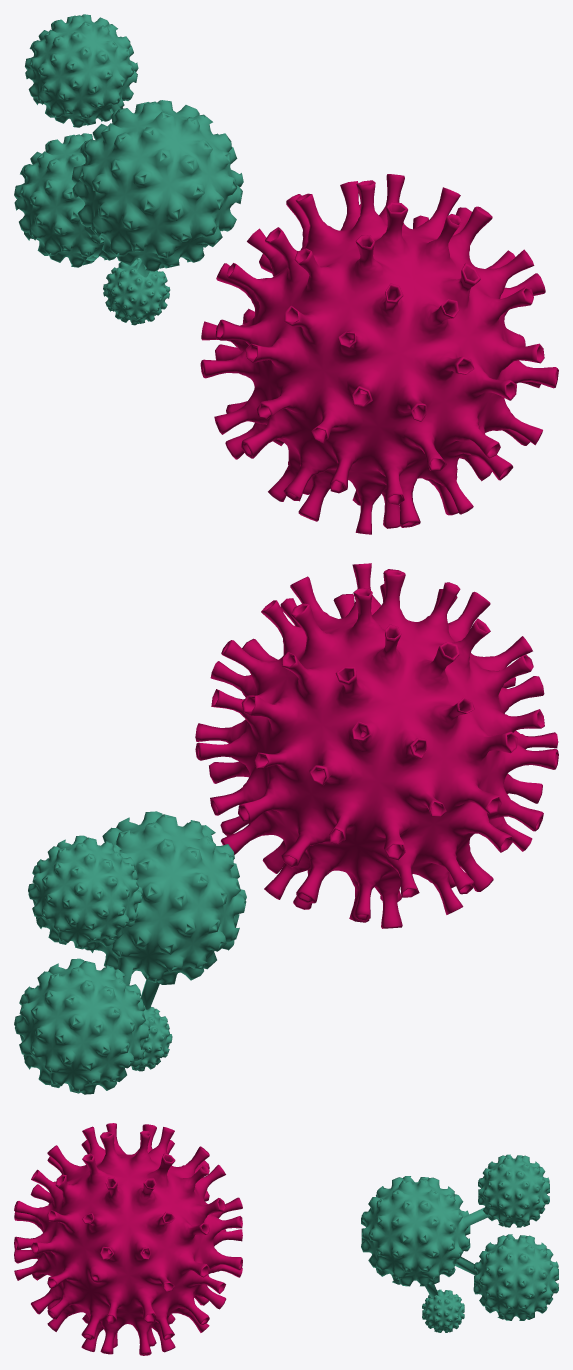
Rendered from virus baby.gltf.
The picture shows the model from 3 angles, top to bottom: view 1: azimuth 30°, elevation 25°; view 2: azimuth 150°, elevation 25°; view 3: azimuth 270°, elevation 25°; orthographic projection. The views are drawn at different scales.
Parts seen in each view (by area): view 1: shapes, shapes.003; view 2: shapes, shapes.003; view 3: shapes, shapes.003.
Part boxes in pixels (<box>): shapes: <box>200,174,558,534</box>; shapes.003: <box>14,14,243,325</box>; shapes: <box>195,563,558,928</box>; shapes.003: <box>14,811,246,1094</box>; shapes: <box>14,1123,242,1355</box>; shapes.003: <box>361,1154,558,1332</box>.
Size of the model in its own units: 0.8289 by 0.8619 by 1.99.
